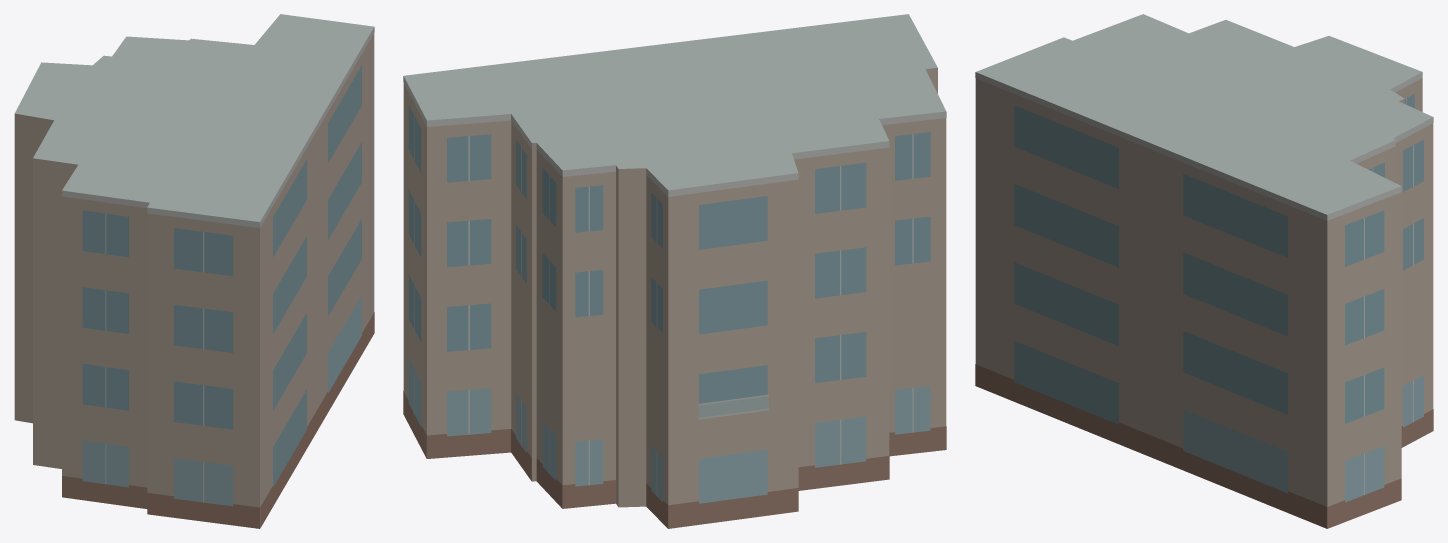
Rendered from survey-upis-33038519.glb.
The picture shows the model from 3 angles, left to right: view 1: azimuth 30°, elevation 25°; view 2: azimuth 150°, elevation 25°; view 3: azimuth 270°, elevation 25°; orthographic projection. The views are drawn at different scales.
Parts seen in each view (by area): view 1: survey-upis-33038519.tmp; view 2: survey-upis-33038519.tmp; view 3: survey-upis-33038519.tmp.
Part boxes in pixels (x1,y1,x2,y2): survey-upis-33038519.tmp: (14, 14, 374, 528); survey-upis-33038519.tmp: (403, 14, 946, 528); survey-upis-33038519.tmp: (975, 14, 1433, 528).
Size of the model in its own units: 17.44 by 12.7 by 16.8.
